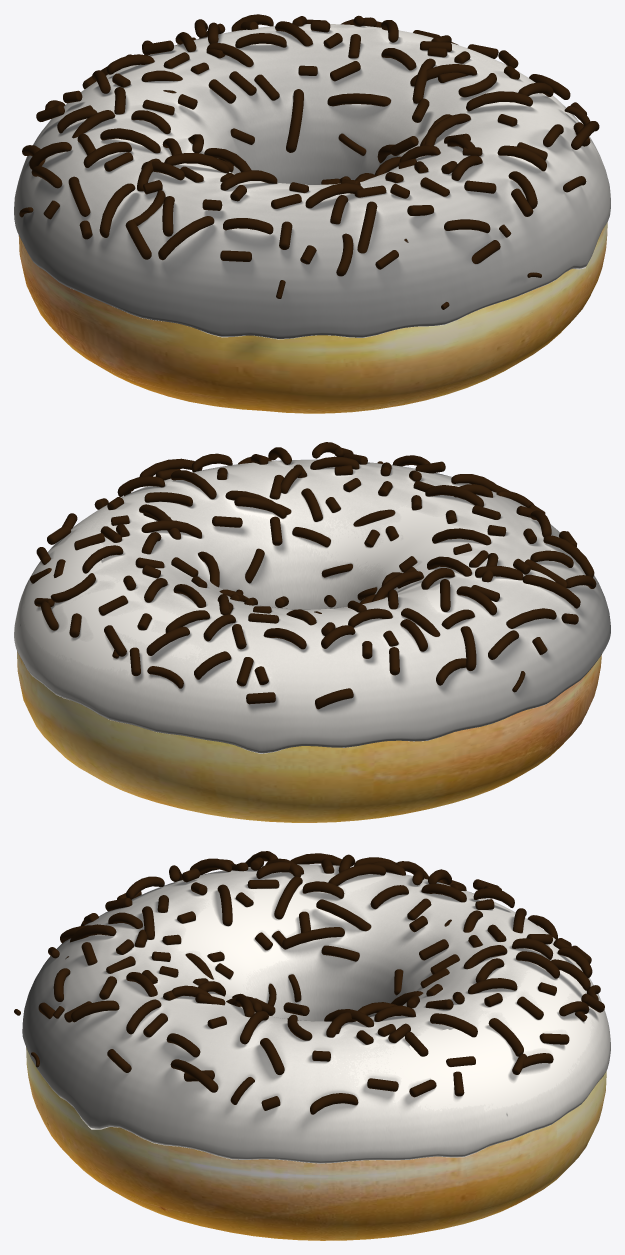
Rendered from white chocolate vermicheli.glb.
3 views of the same model, one above another, from view 1: azimuth 30°, elevation 25°; view 2: azimuth 150°, elevation 25°; view 3: azimuth 270°, elevation 25° (orthographic). The views are drawn at different scales.
Parts seen in each view (by area): view 1: white, coffee.001, blue.002, Torus; view 2: white, coffee.001, blue.002, Torus; view 3: white, coffee.001, Torus, blue.002.
Boxes of the visible parts, bbox=[...] form: white: bbox=[14, 24, 610, 339]; coffee.001: bbox=[14, 24, 610, 338]; blue.002: bbox=[19, 14, 599, 309]; Torus: bbox=[18, 222, 607, 413]; white: bbox=[14, 460, 609, 753]; coffee.001: bbox=[14, 459, 610, 753]; blue.002: bbox=[30, 442, 596, 709]; Torus: bbox=[17, 651, 601, 822]; white: bbox=[23, 864, 610, 1163]; coffee.001: bbox=[22, 864, 610, 1163]; Torus: bbox=[26, 1047, 606, 1240]; blue.002: bbox=[14, 851, 604, 1114].
Size of the model in its own units: 0.1989 by 0.0773 by 0.2.
Materials: 4 (2 with a texture image).
